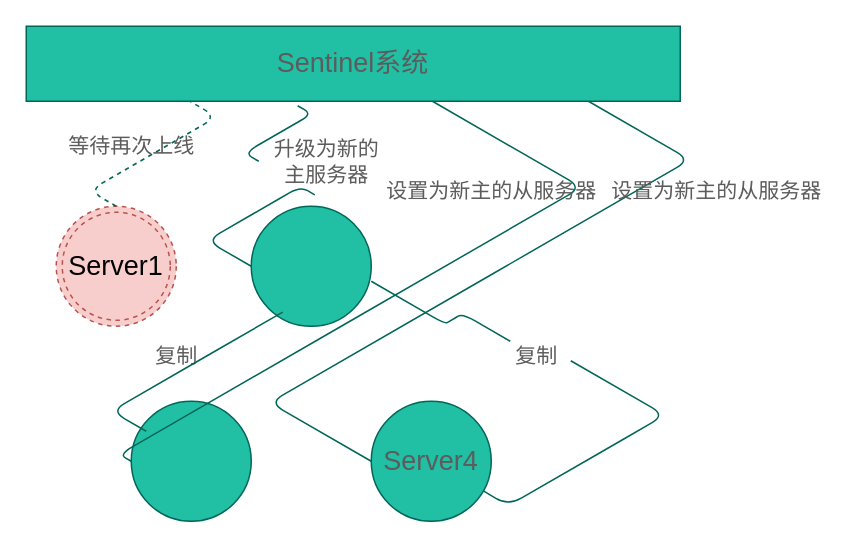
Image size: 863x548. Some labels were removed from this diagram. Here are the shapes that lost their labels. From the top down, the centre of each, then its label:
(310,265): Server2
(190,460): Server3
